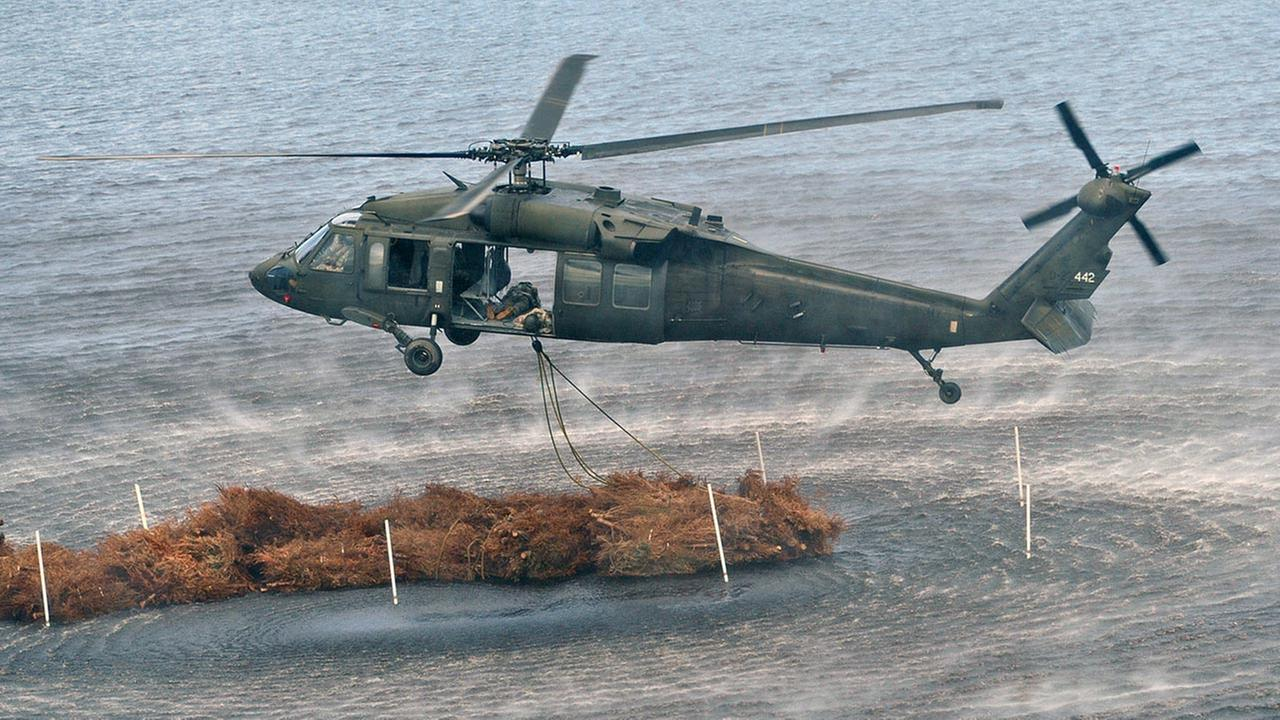MilitaryHelicopter: (234, 82, 1215, 419)
